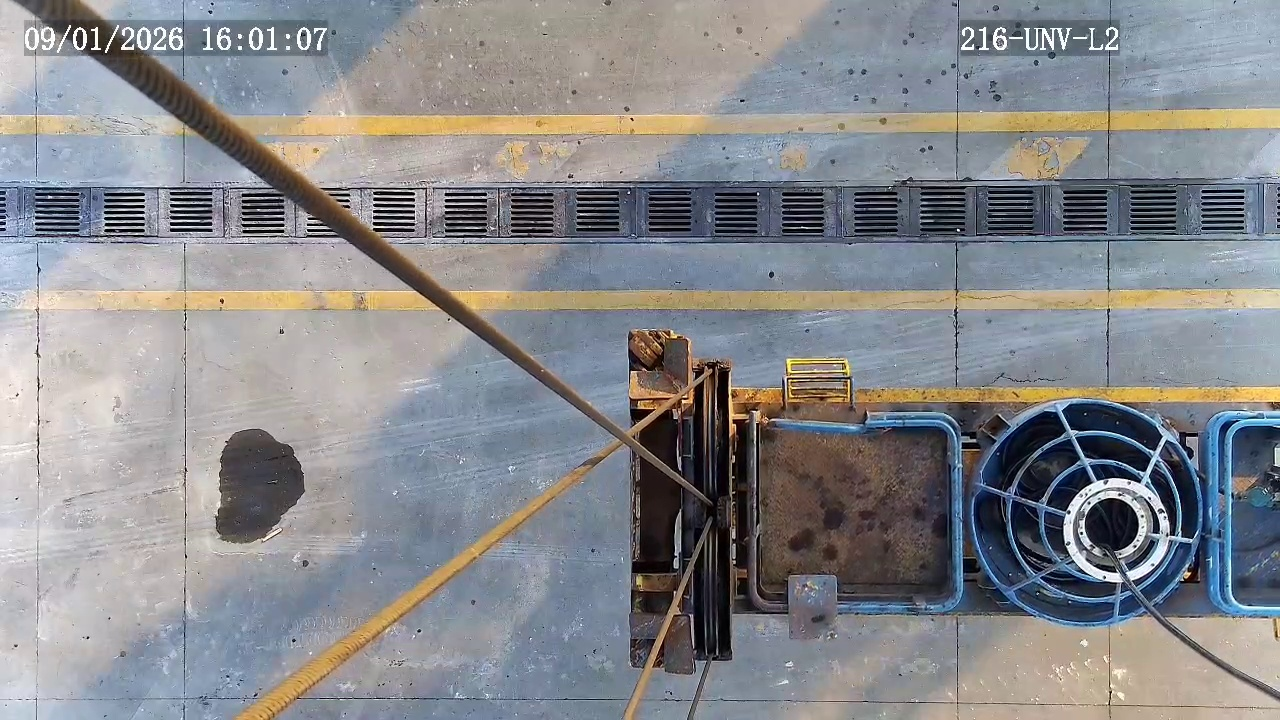left: (1062, 478, 1170, 583)
